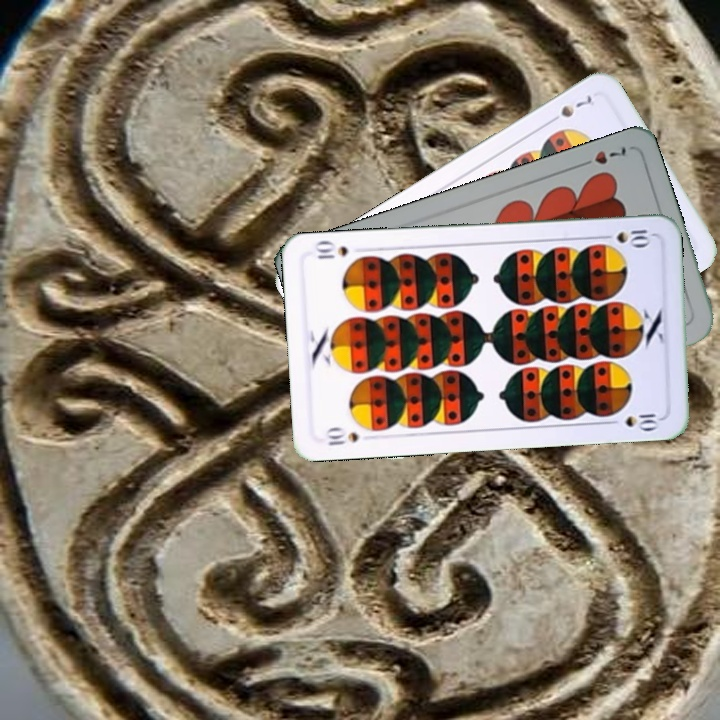H7: (574, 142, 629, 170)
S10: (596, 226, 655, 248), (323, 424, 361, 449)
S7: (544, 92, 595, 127)
